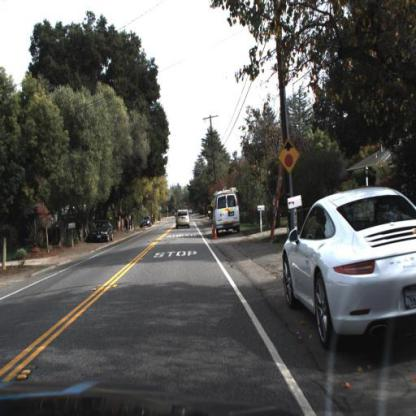car: (282, 183, 416, 354), (210, 185, 245, 236), (174, 206, 193, 231), (93, 220, 114, 242)
pedestrian: (123, 213, 131, 236), (131, 214, 136, 233)
truck: (212, 191, 243, 235)
